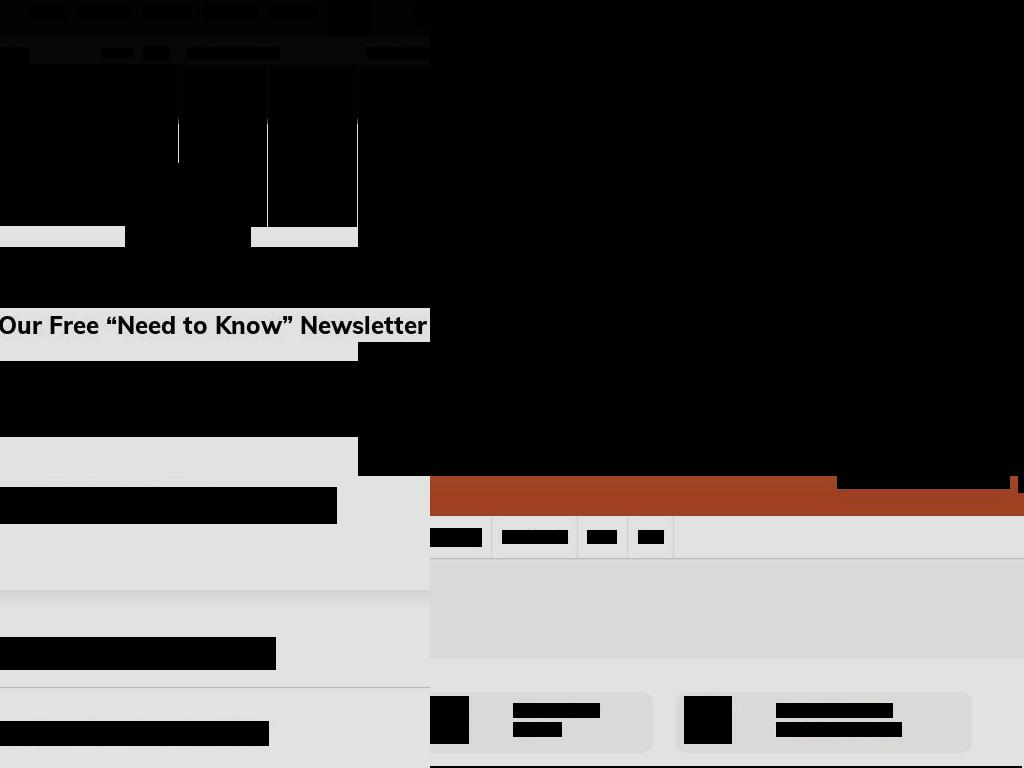button: (612, 238, 848, 303), (358, 158, 430, 212), (358, 211, 430, 265), (358, 398, 430, 452), (358, 65, 430, 118), (358, 305, 430, 358), (268, 65, 357, 106), (268, 105, 357, 146), (268, 146, 357, 187), (268, 186, 357, 227), (179, 65, 267, 106), (179, 105, 267, 146), (179, 146, 267, 187), (179, 186, 267, 227), (358, 118, 430, 159), (358, 264, 430, 305), (358, 358, 430, 399), (328, 0, 372, 37), (366, 47, 430, 59)
field: (837, 476, 1010, 489), (430, 528, 482, 547), (143, 46, 170, 60)
heading: (430, 0, 1024, 476), (430, 33, 1024, 112), (430, 168, 1024, 197), (0, 308, 430, 342), (0, 637, 276, 670), (0, 721, 269, 746)
iframe: (0, 247, 430, 337)
image: (430, 385, 1024, 476), (0, 64, 178, 226), (125, 163, 251, 289), (684, 696, 732, 744), (430, 696, 469, 744)
link: (784, 722, 902, 737), (784, 703, 893, 718), (107, 387, 198, 402), (521, 703, 600, 718), (25, 387, 93, 402), (502, 530, 568, 544), (76, 4, 133, 20), (202, 4, 257, 20), (267, 4, 318, 20), (143, 4, 192, 20), (308, 387, 354, 402), (366, 84, 411, 98), (366, 131, 411, 145), (366, 277, 411, 291), (366, 324, 411, 338), (366, 371, 411, 385), (521, 722, 562, 737), (28, 4, 66, 20), (366, 178, 411, 191), (366, 231, 411, 244), (366, 418, 411, 431), (368, 387, 406, 402), (366, 464, 411, 476), (212, 387, 247, 402), (261, 387, 294, 402), (0, 47, 29, 64), (587, 530, 617, 544), (235, 76, 259, 93), (327, 76, 349, 93), (327, 117, 349, 134), (327, 157, 349, 174), (327, 198, 349, 215), (638, 530, 664, 544), (242, 117, 259, 134), (242, 157, 259, 174), (242, 198, 259, 215), (411, 126, 430, 138), (411, 166, 430, 178), (411, 219, 430, 231), (411, 273, 430, 285), (411, 460, 430, 472), (411, 313, 430, 324), (420, 387, 430, 402)
text: (0, 361, 430, 437), (0, 487, 337, 524), (619, 325, 840, 343), (187, 47, 280, 59), (276, 117, 308, 134), (187, 76, 218, 93), (276, 76, 307, 93), (187, 198, 214, 215), (276, 157, 301, 174), (187, 157, 211, 174), (187, 117, 210, 134), (143, 200, 175, 211), (143, 151, 175, 162), (143, 103, 175, 114), (101, 48, 133, 58), (40, 214, 66, 225), (276, 198, 292, 215), (105, 214, 125, 225), (158, 214, 178, 225), (513, 703, 521, 718), (513, 722, 521, 737), (776, 703, 784, 718), (776, 722, 784, 737)
